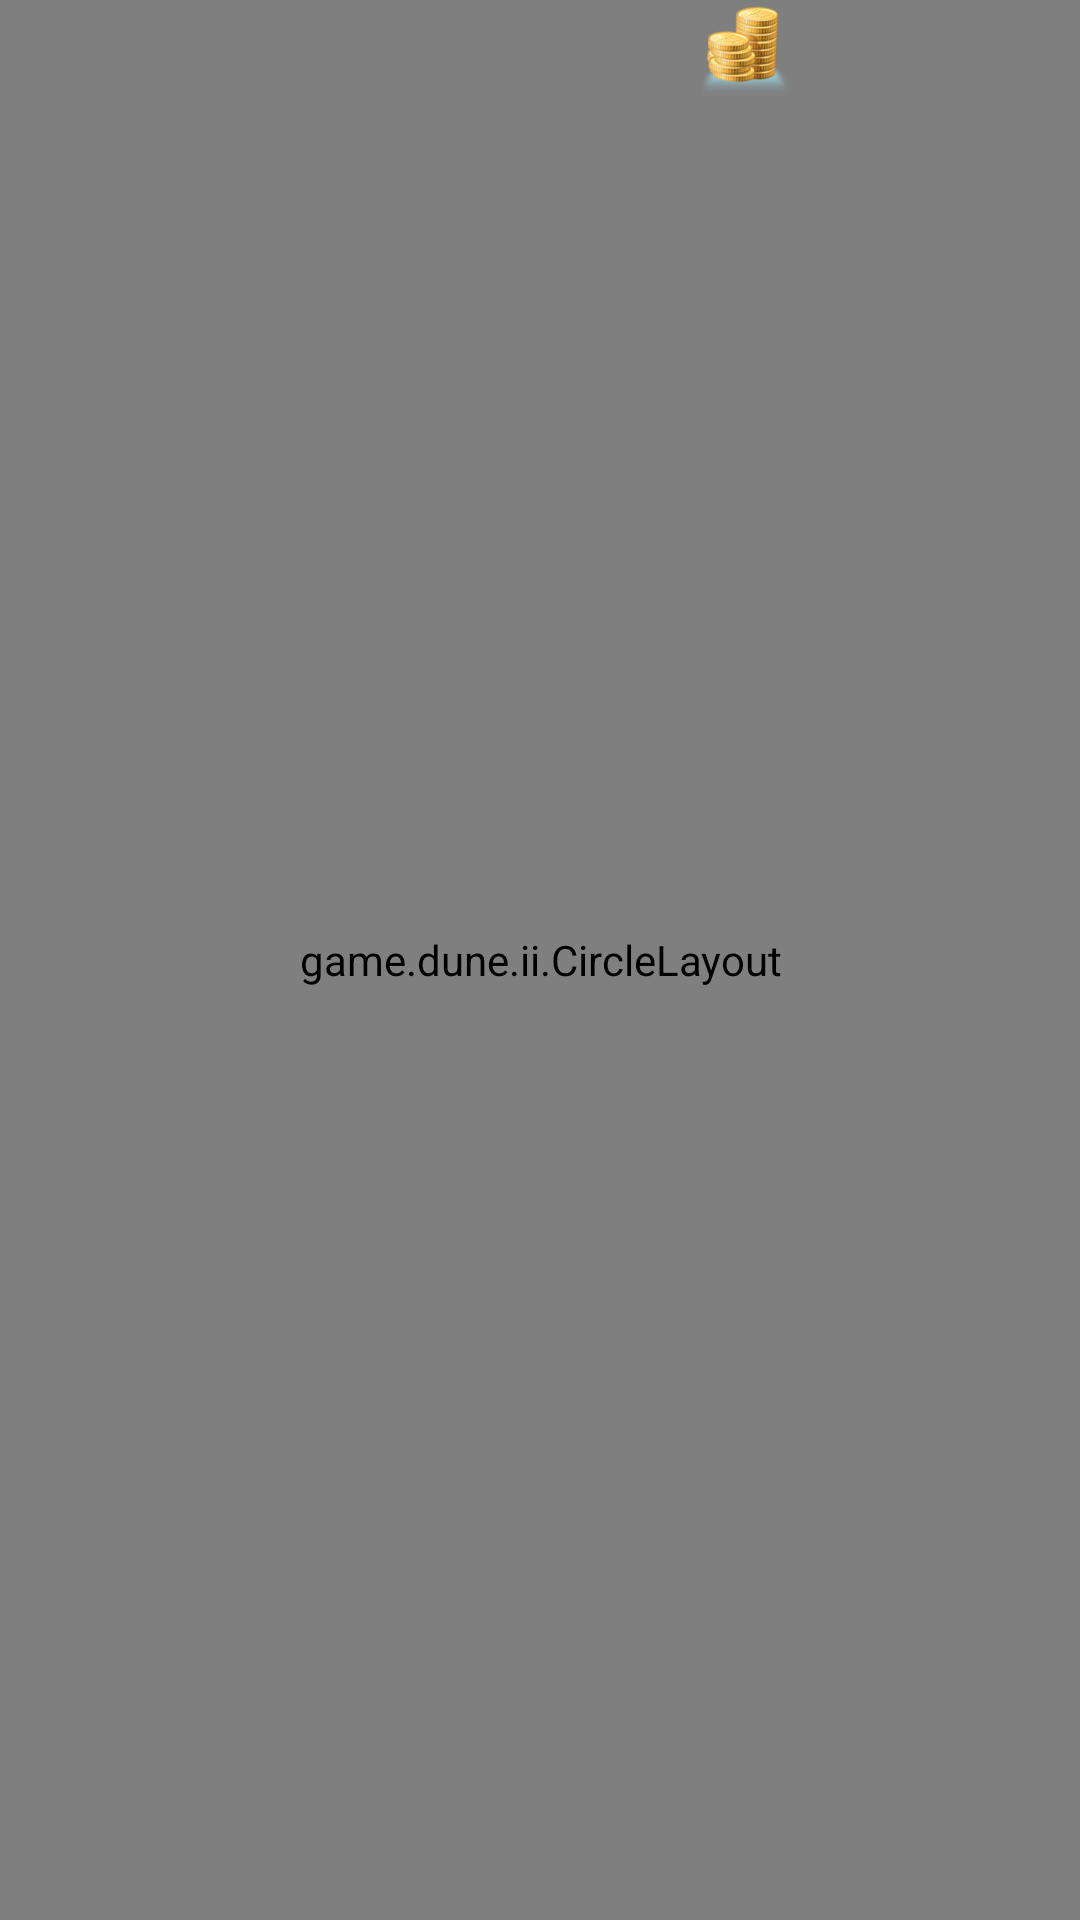

Point at icon controls on the screen. Image size 1080px×1920px, points as [x,y].
coin: [745,46]
